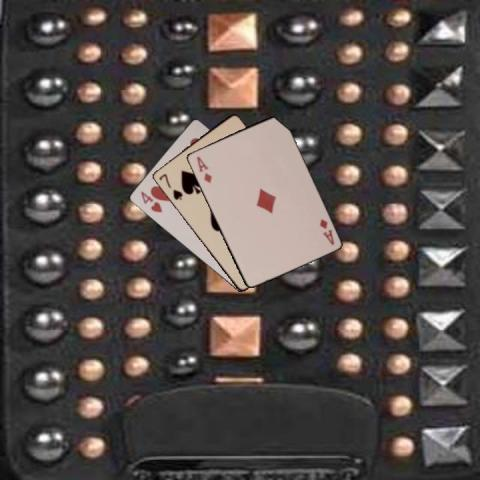4h: (138, 188, 164, 214)
7s: (156, 171, 184, 201)
Ad: (193, 153, 213, 185), (316, 215, 335, 247)
